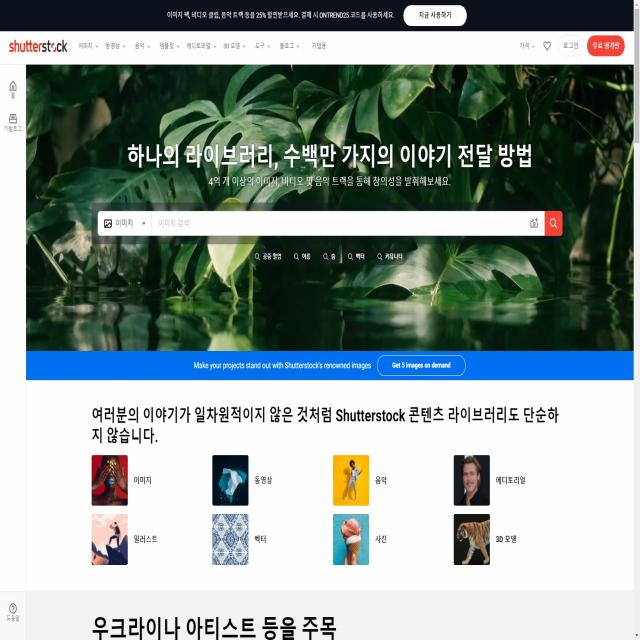menu-bar: (74, 34, 338, 59), (510, 34, 627, 59)
menu-panel: (250, 246, 406, 265)
search: (92, 202, 568, 244)
